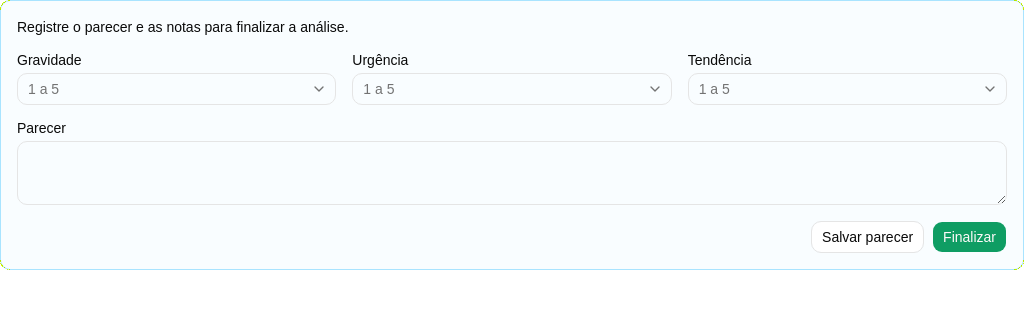
AnalysisPanel › bloqueia a finalização quando as notas e o parecer estão vazios
This screenshot has width=1024, height=331.
Step 1. Click the button "Finalizar" → {"x": 970, "y": 237}, box 932,221 -> 1007,253
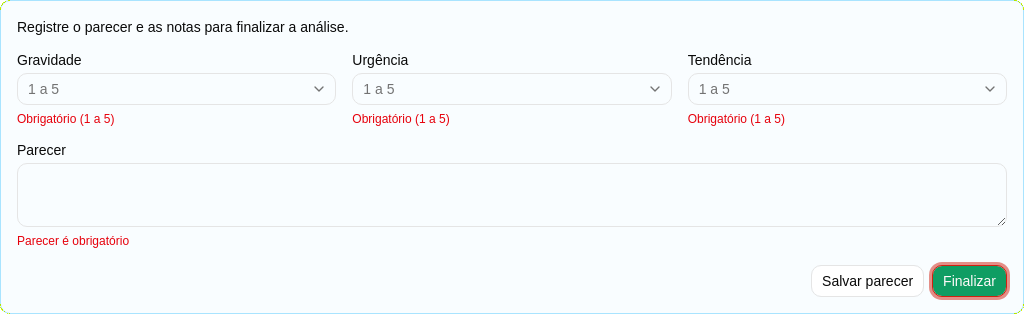
Now the text "Parecer é obrigatório" is shown, box 17,234 -> 129,248
